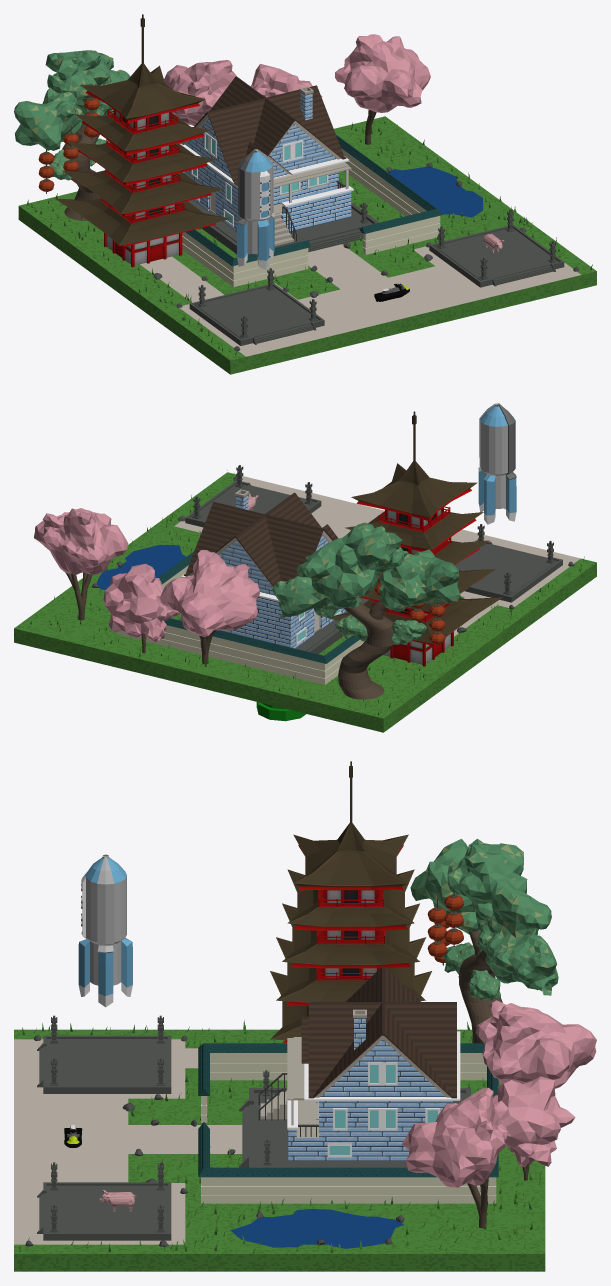
3 views of the same model, one above another, from view 1: azimuth 30°, elevation 25°; view 2: azimuth 150°, elevation 25°; view 3: azimuth 270°, elevation 25° (orthographic). The views are drawn at different scales.
Visible parts, largest first — view 1: Cube.005, Cube.547, OBJRANDOM_ROCKETSHIP; view 2: Cube.005, Cube.547, OBJRANDOM_ROCKETSHIP, UNDERGROUND_PIPES; view 3: Cube.005, Cube.547, OBJRANDOM_ROCKETSHIP.
Part boxes in pixels (x1,y1,x2,y2): Cube.005: (14, 14, 596, 374); Cube.547: (178, 76, 353, 246); OBJRANDOM_ROCKETSHIP: (236, 149, 274, 269); Cube.005: (14, 411, 596, 732); Cube.547: (181, 489, 346, 648); OBJRANDOM_ROCKETSHIP: (478, 403, 516, 524); UNDERGROUND_PIPES: (256, 702, 305, 721); Cube.005: (14, 761, 596, 1271); Cube.547: (258, 966, 460, 1160); OBJRANDOM_ROCKETSHIP: (78, 854, 132, 1007).
Bounding box in the file's own units: 4528 × 3273 × 4389.
36 materials, 6 textured.
